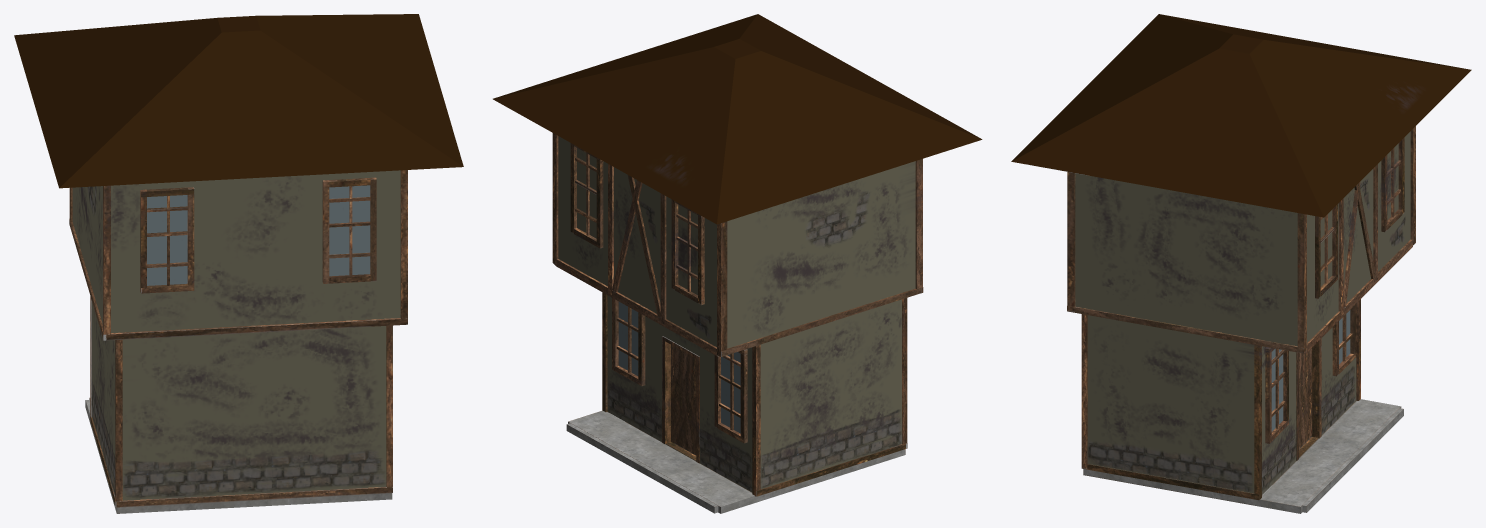
Rendered from Casa09(P).fbx.
3 views of the same model, side by side, from view 1: azimuth 30°, elevation 25°; view 2: azimuth 150°, elevation 25°; view 3: azimuth 270°, elevation 25° (orthographic). The views are drawn at different scales.
Visible parts, largest first — view 1: Casa09 - Povo; view 2: Casa09 - Povo; view 3: Casa09 - Povo.
Boxes of the visible parts, left/top/right/bottom form: Casa09 - Povo: left=14, top=14, right=463, bottom=513; Casa09 - Povo: left=493, top=14, right=982, bottom=513; Casa09 - Povo: left=1011, top=14, right=1471, bottom=513.
Size of the model in its own units: 990 by 906 by 946.
